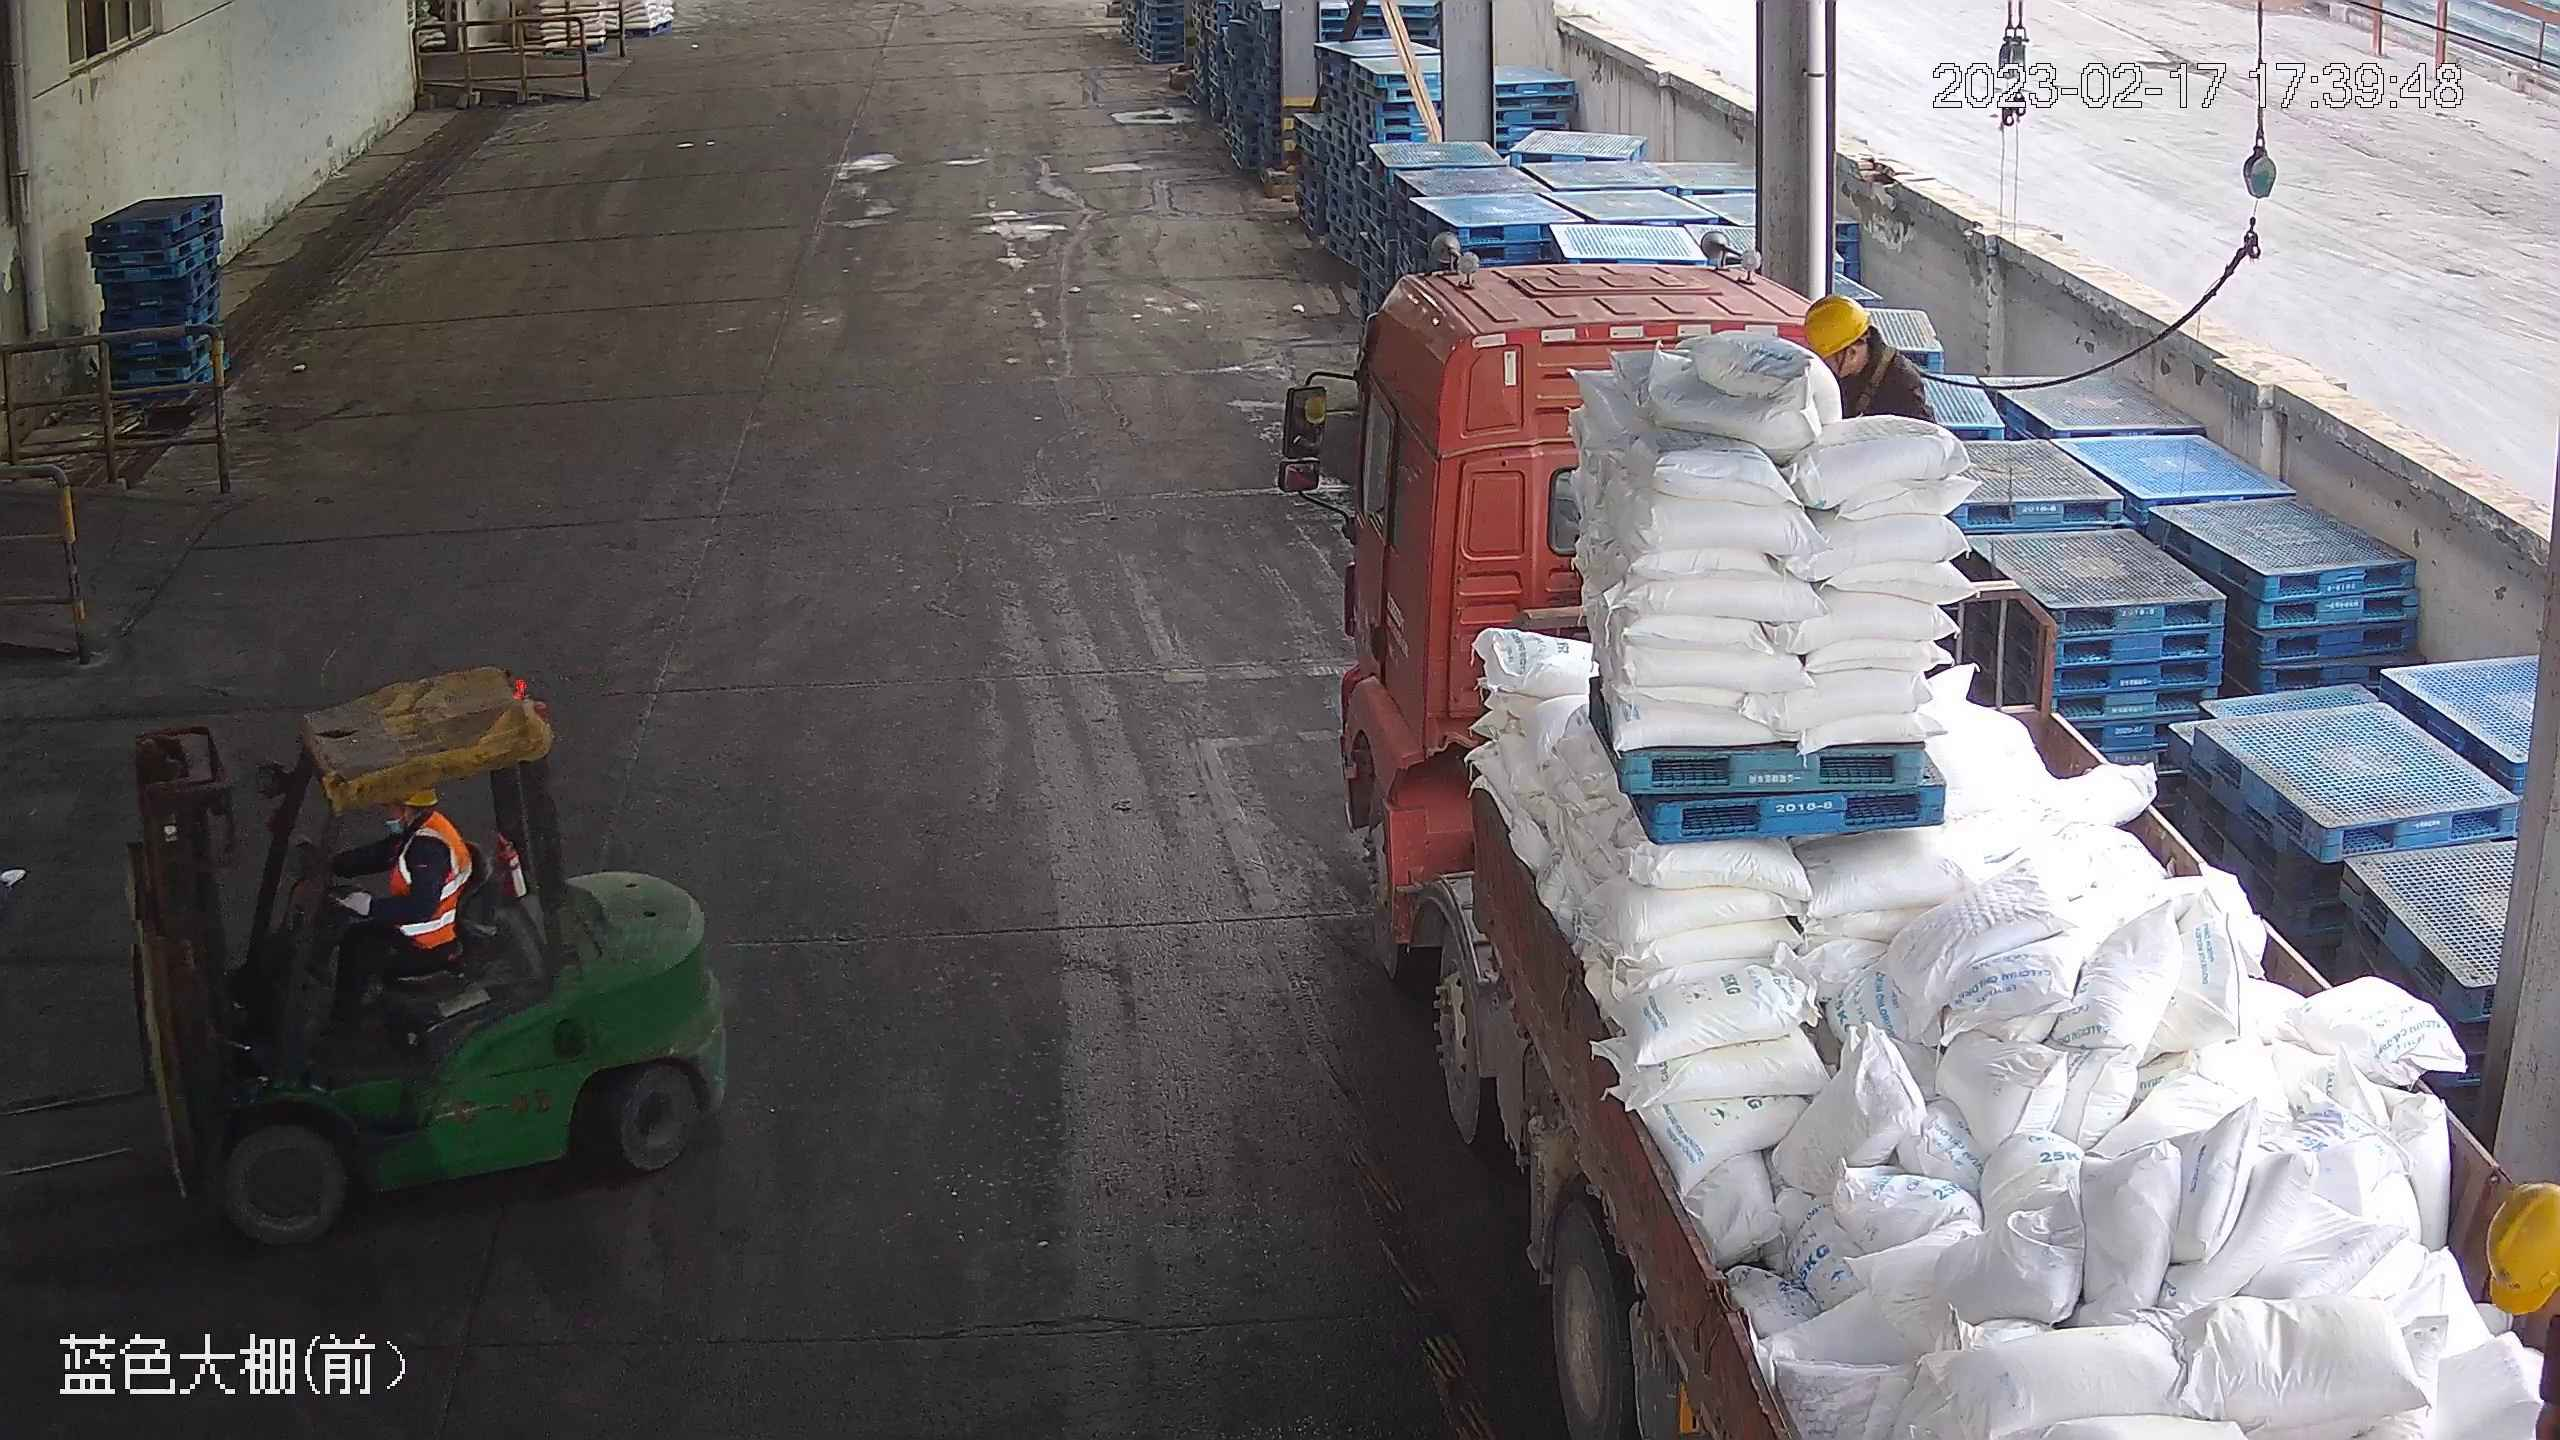belt: (1840, 342, 1927, 409)
head: (1803, 290, 1931, 405), (379, 785, 470, 868)
helmet: (2476, 1177, 2559, 1316), (1802, 293, 1870, 358)
people: (304, 784, 479, 1052)
truck: (1275, 238, 2549, 1438)
